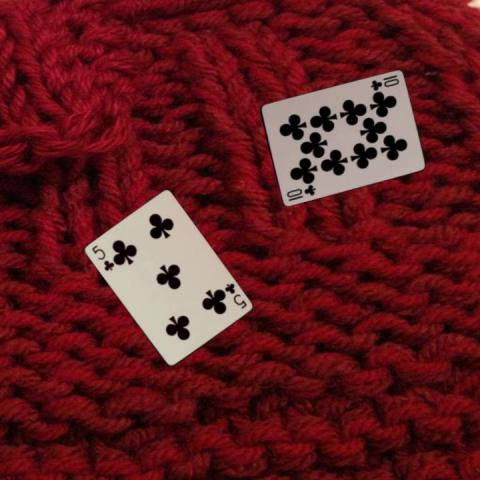10c: (283, 182, 317, 203), (367, 72, 401, 92)
5c: (221, 280, 248, 310), (88, 242, 114, 273)
